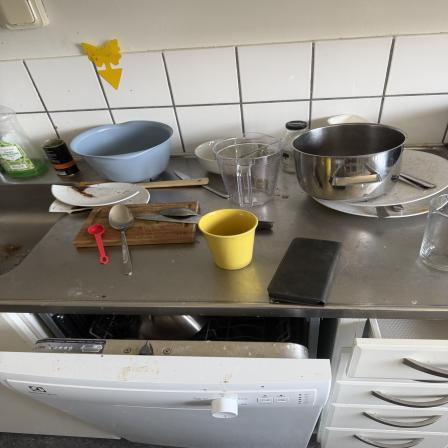phone: (278, 234, 338, 302)
yellow_cup: (198, 212, 260, 270)
